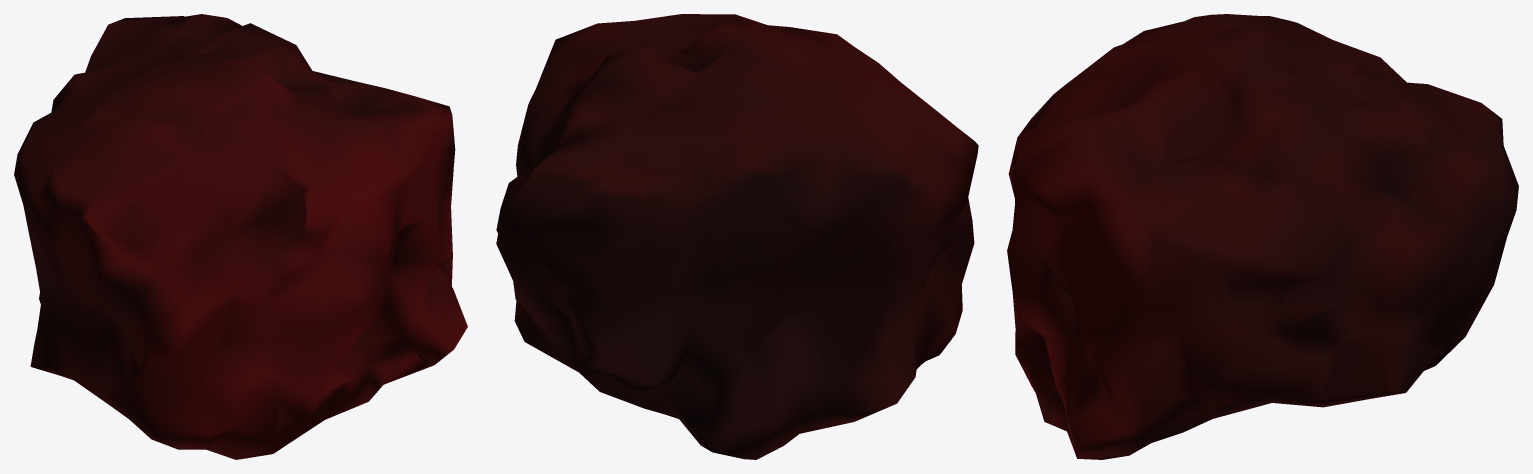
Rendered from geology-rocks-meteoritesmall_v5.fbx.
3 renders of one model, left to right at view 1: azimuth 30°, elevation 25°; view 2: azimuth 150°, elevation 25°; view 3: azimuth 270°, elevation 25°, orthographic. The views are drawn at different scales.
Visible parts, largest first — view 1: MeteoriteSmall_v5; view 2: MeteoriteSmall_v5; view 3: MeteoriteSmall_v5.
Boxes of the visible parts, x1,y1,x2,y2 form: MeteoriteSmall_v5: (14, 14, 467, 459); MeteoriteSmall_v5: (496, 14, 978, 459); MeteoriteSmall_v5: (1007, 14, 1518, 459).
Bounding box in the file's own units: 1.62 × 1.32 × 1.63.
